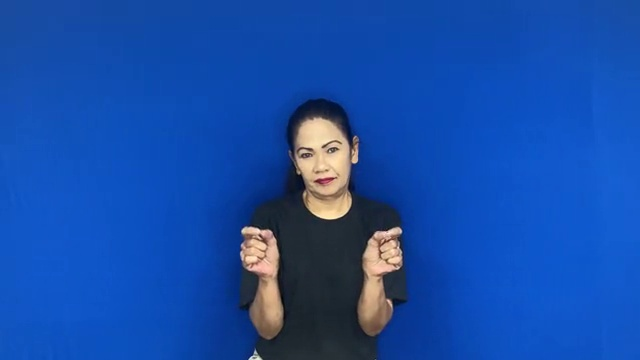crab: (233, 219, 408, 288)
